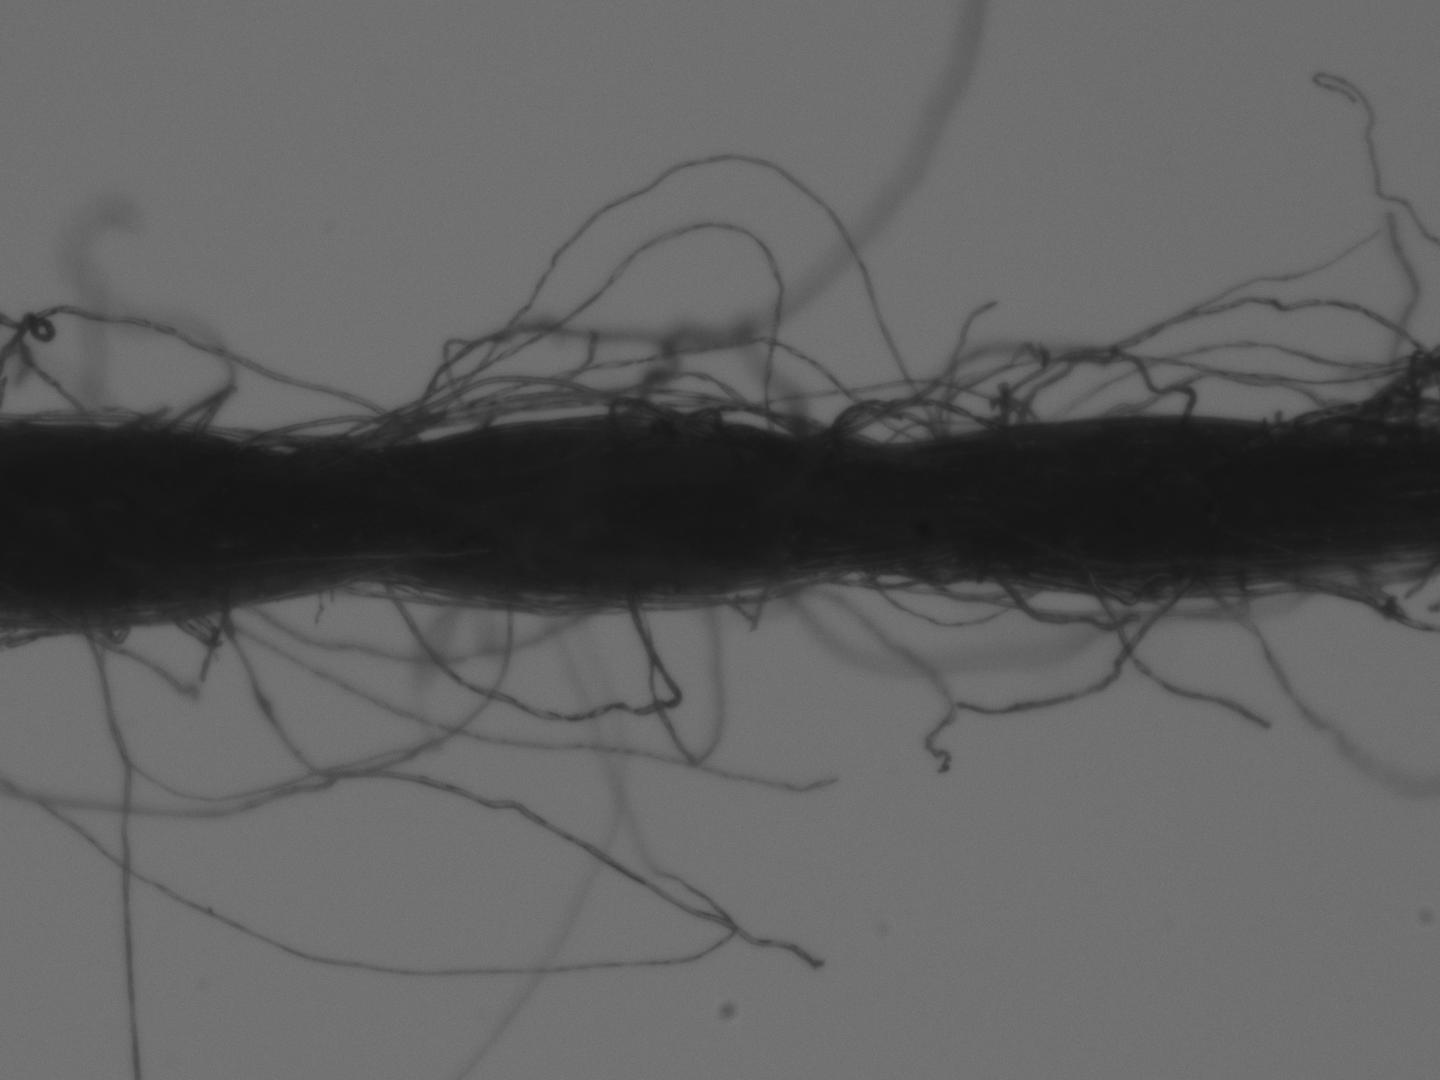loop_fiber: (303, 146, 947, 464), (376, 574, 686, 729), (1017, 345, 1200, 428), (862, 566, 1058, 630), (824, 390, 1007, 456), (607, 393, 669, 434), (95, 616, 128, 653)
